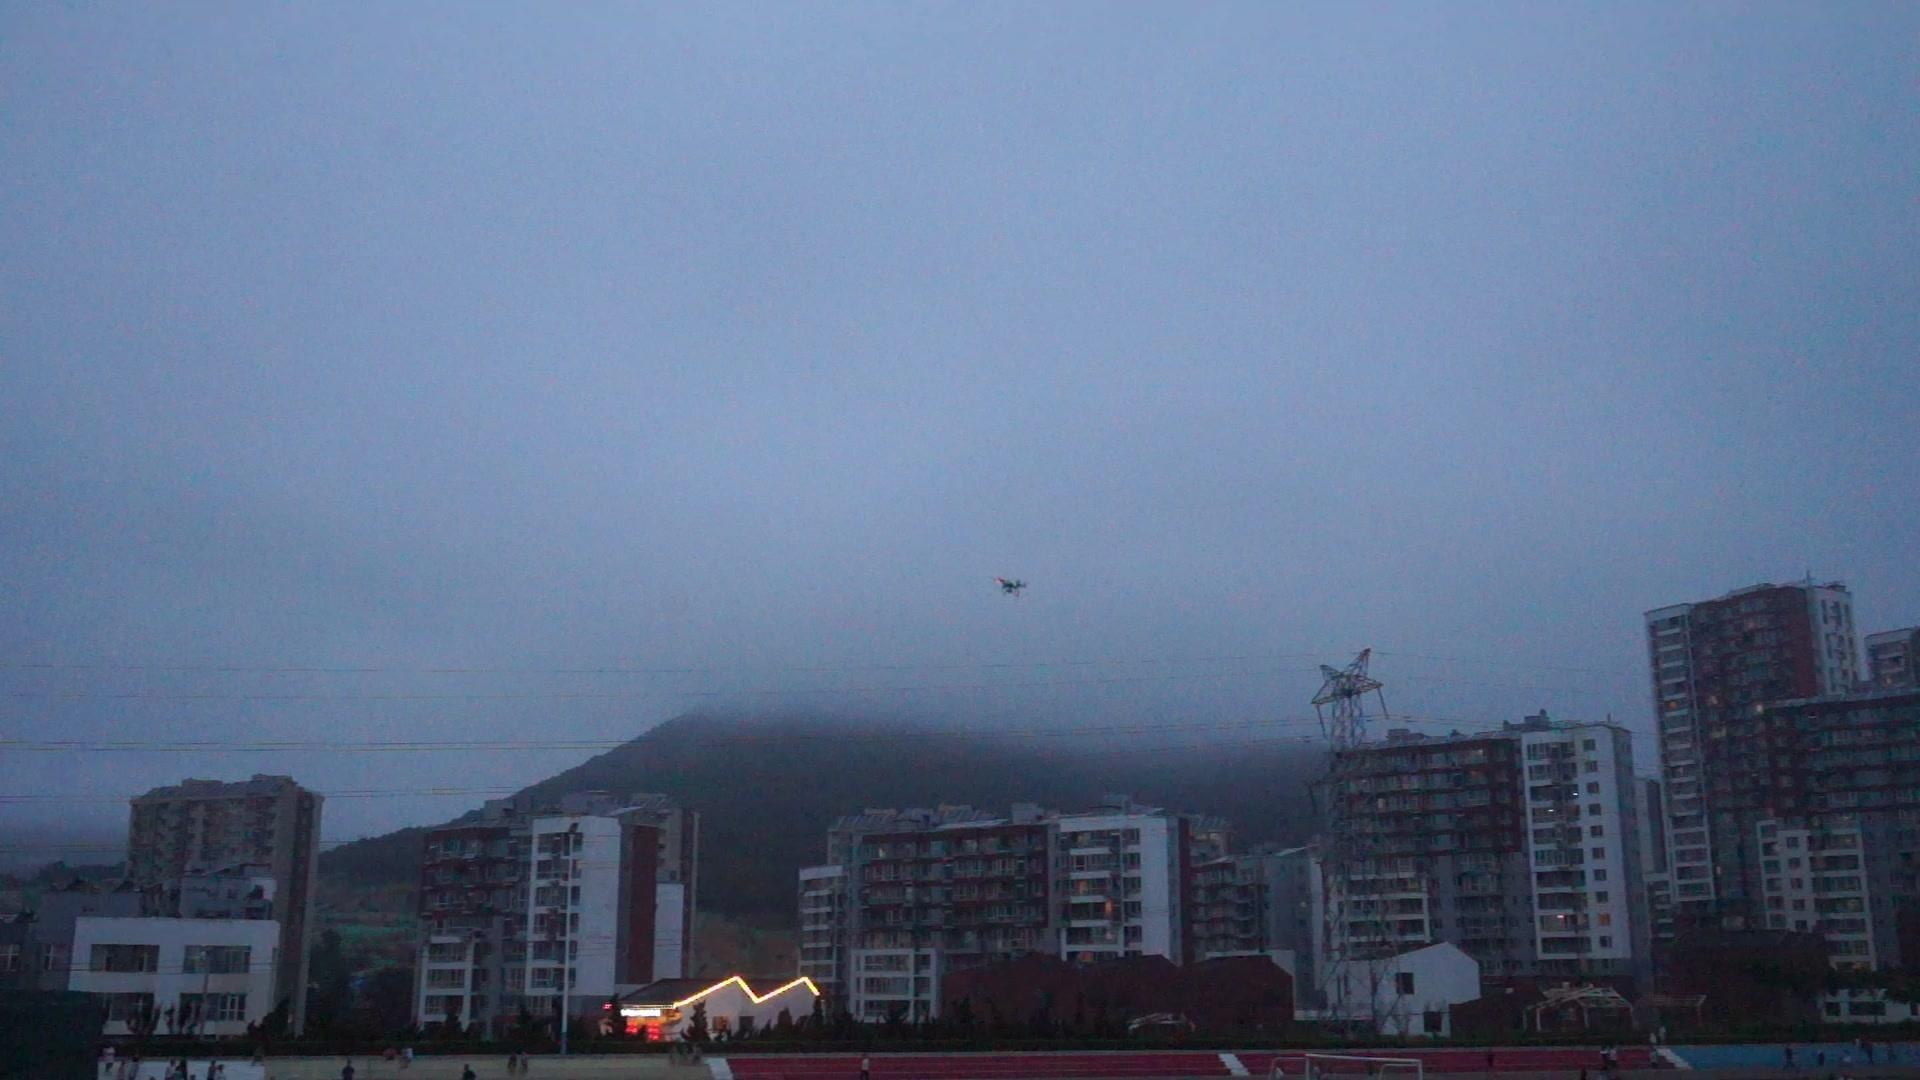UAV: (996, 578, 1031, 597)
